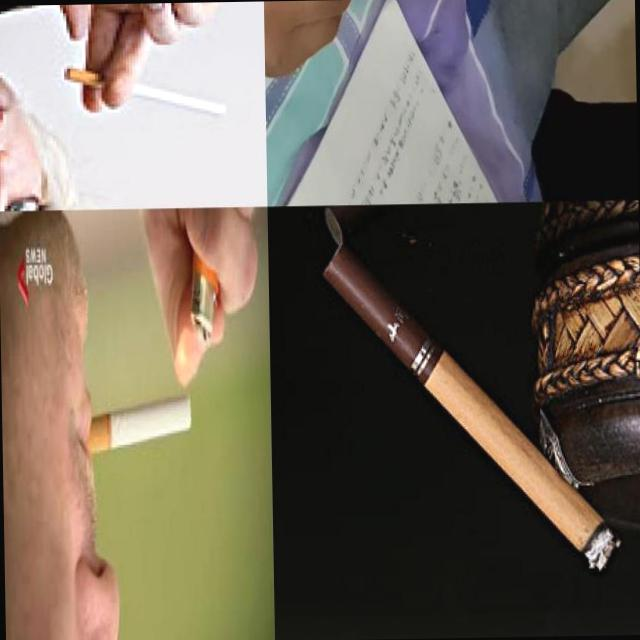smoke: (322, 243, 627, 582), (62, 64, 226, 119), (80, 390, 192, 454)
